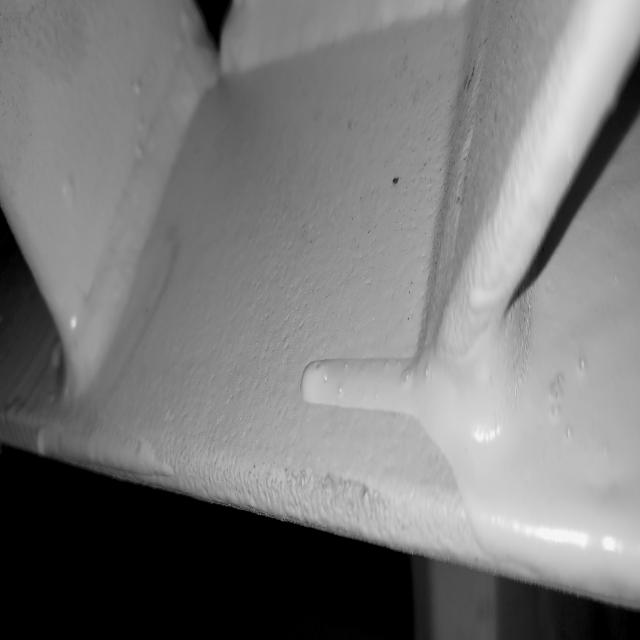paint drips: (293, 344, 492, 456)
